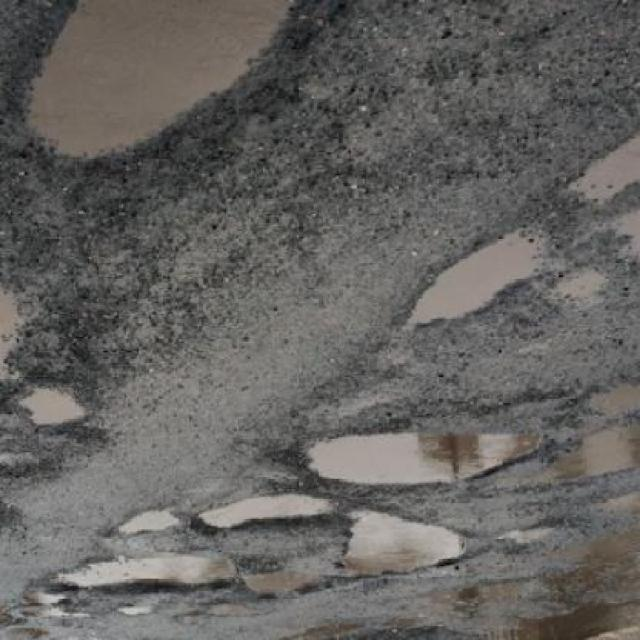pothole: (2, 2, 360, 240), (283, 426, 554, 496), (335, 508, 493, 592), (188, 492, 344, 546), (44, 555, 242, 596), (240, 568, 335, 604)
